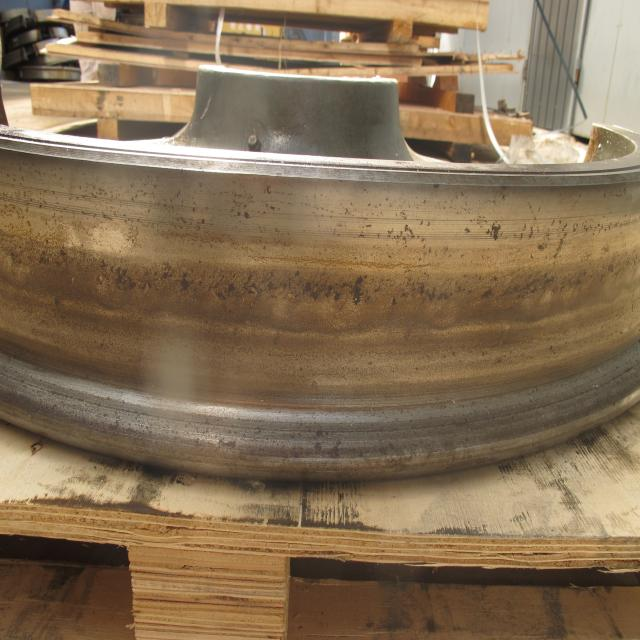Contact_Fatigue_Cracks: (164, 273, 367, 298), (403, 280, 556, 300), (94, 257, 137, 289), (39, 236, 68, 273)
